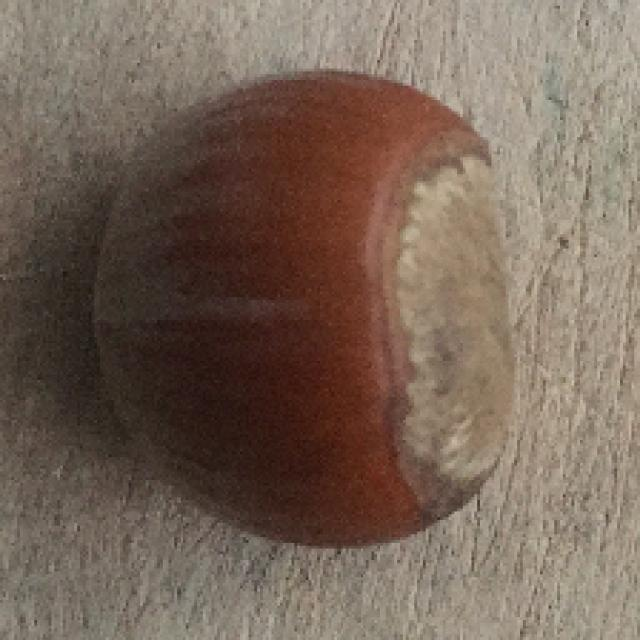qualityHazelnut: (66, 62, 530, 554)
